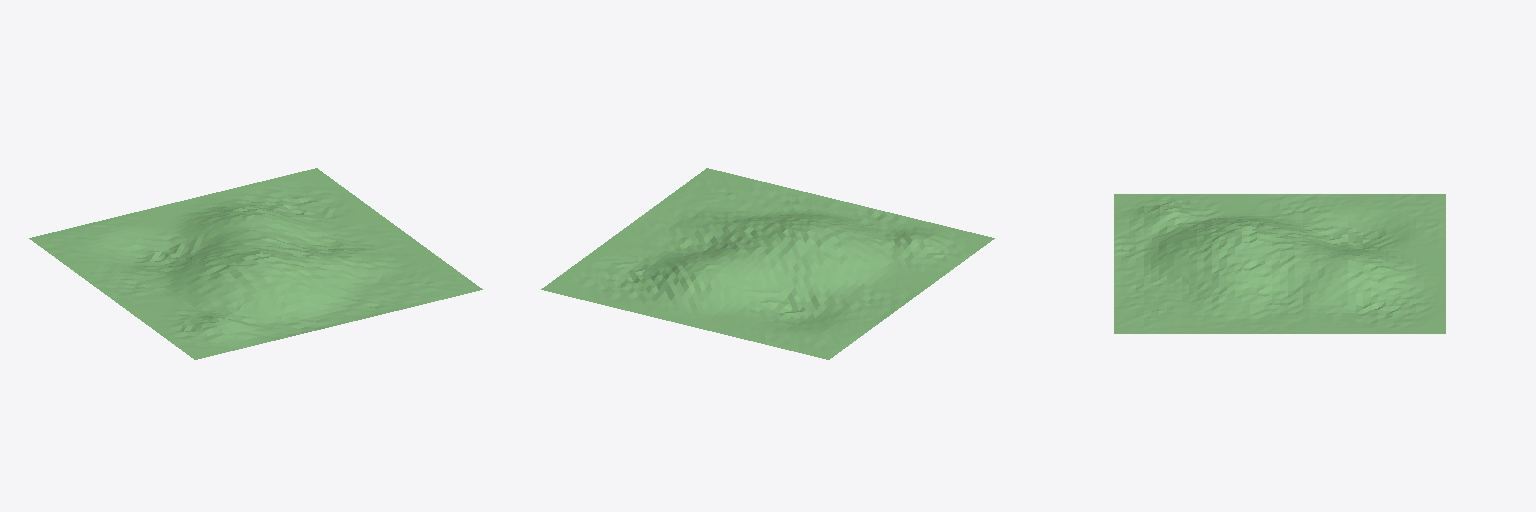
The model's file is plane_roller.obj.
The picture shows the model from 3 angles: view 1: azimuth 30°, elevation 25°; view 2: azimuth 150°, elevation 25°; view 3: azimuth 270°, elevation 25°; orthographic projection.
Parts seen in each view (by area): view 1: Ground_m_02_1_Scene.003; view 2: Ground_m_02_1_Scene.003; view 3: Ground_m_02_1_Scene.003.
Part boxes in pixels (x1,y1,x2,y2): Ground_m_02_1_Scene.003: (29, 168, 482, 359); Ground_m_02_1_Scene.003: (541, 168, 994, 359); Ground_m_02_1_Scene.003: (1114, 194, 1445, 333).
Size of the model in its own units: 100 by 9.82 by 100.